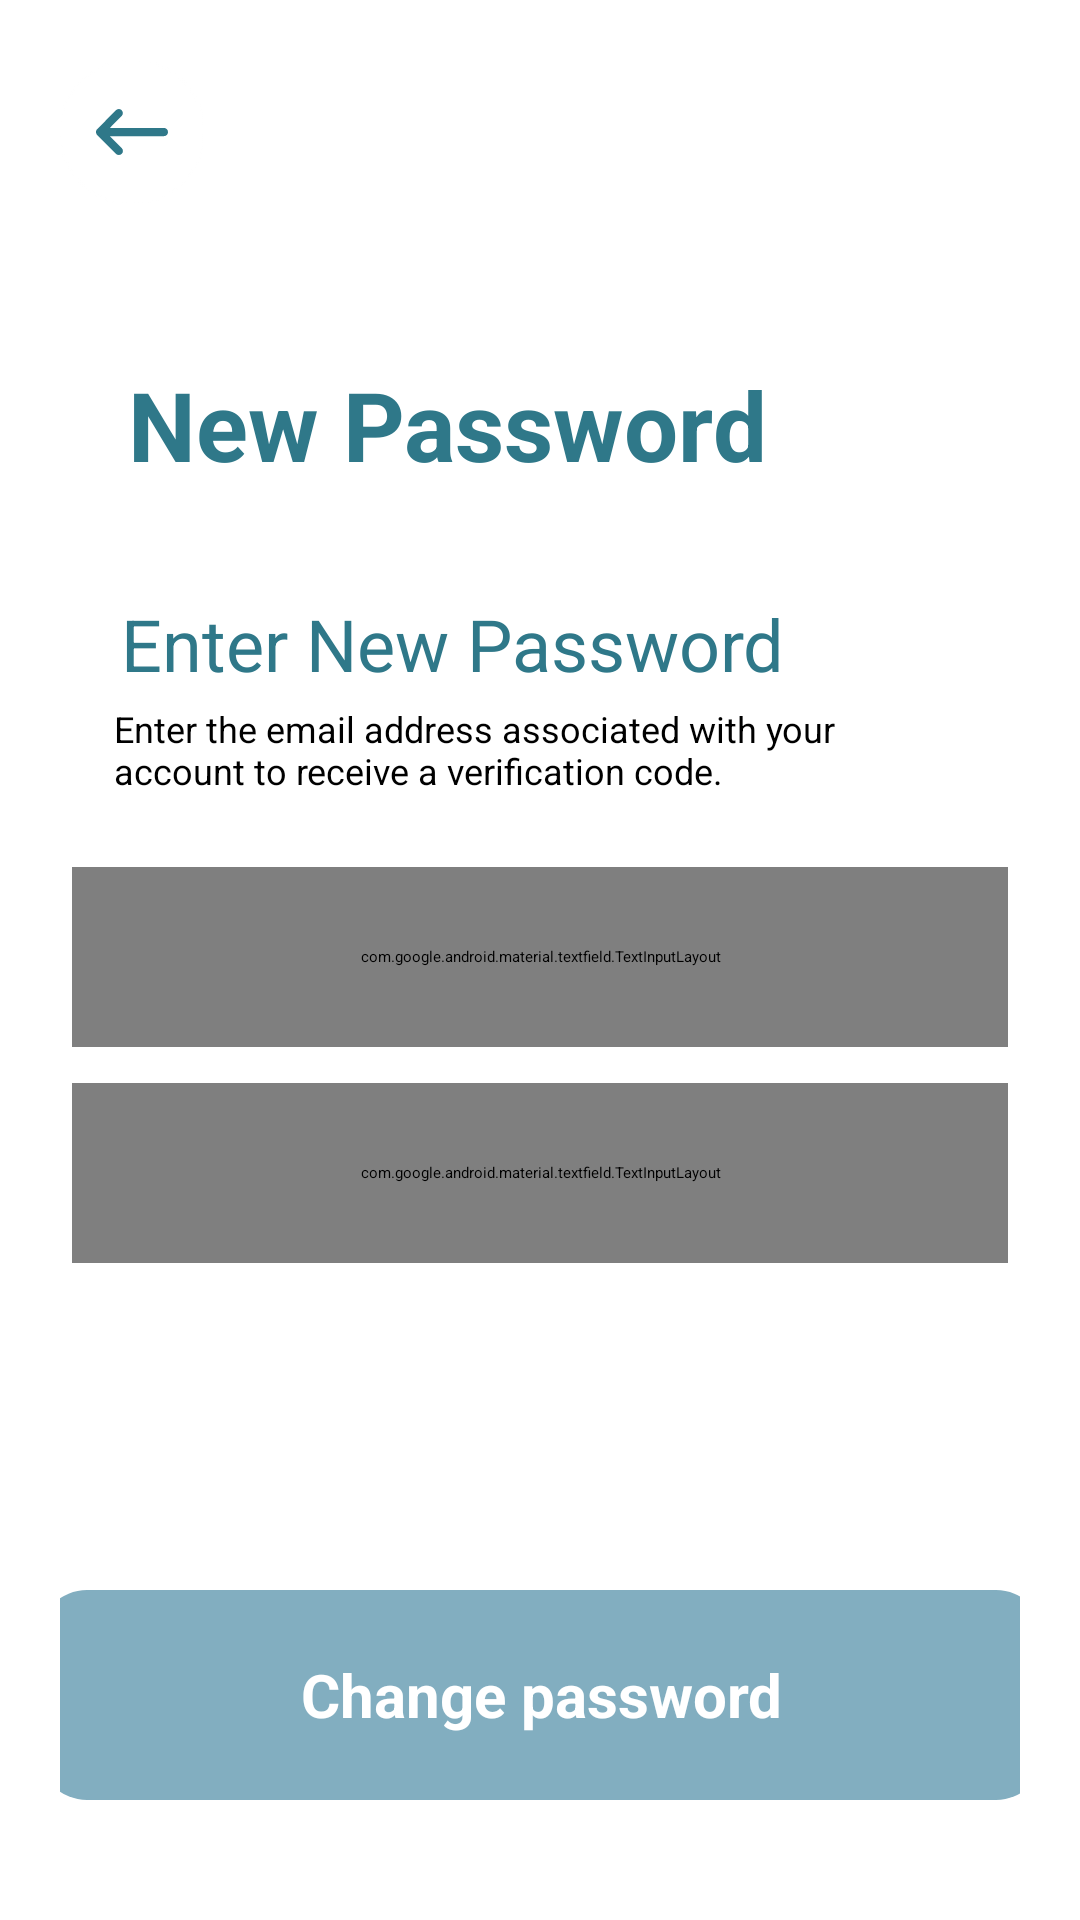

Where to tap for icons on this 1080x1920 app screen, as point (x, y):
back arrorw: point (132, 132)
